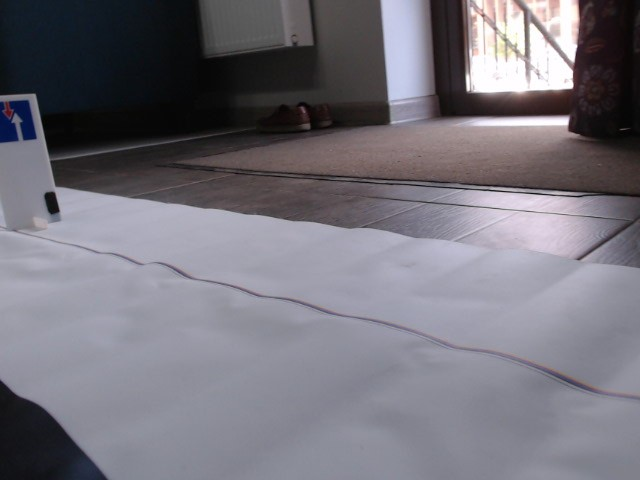priority_movement: (1, 96, 36, 146)
